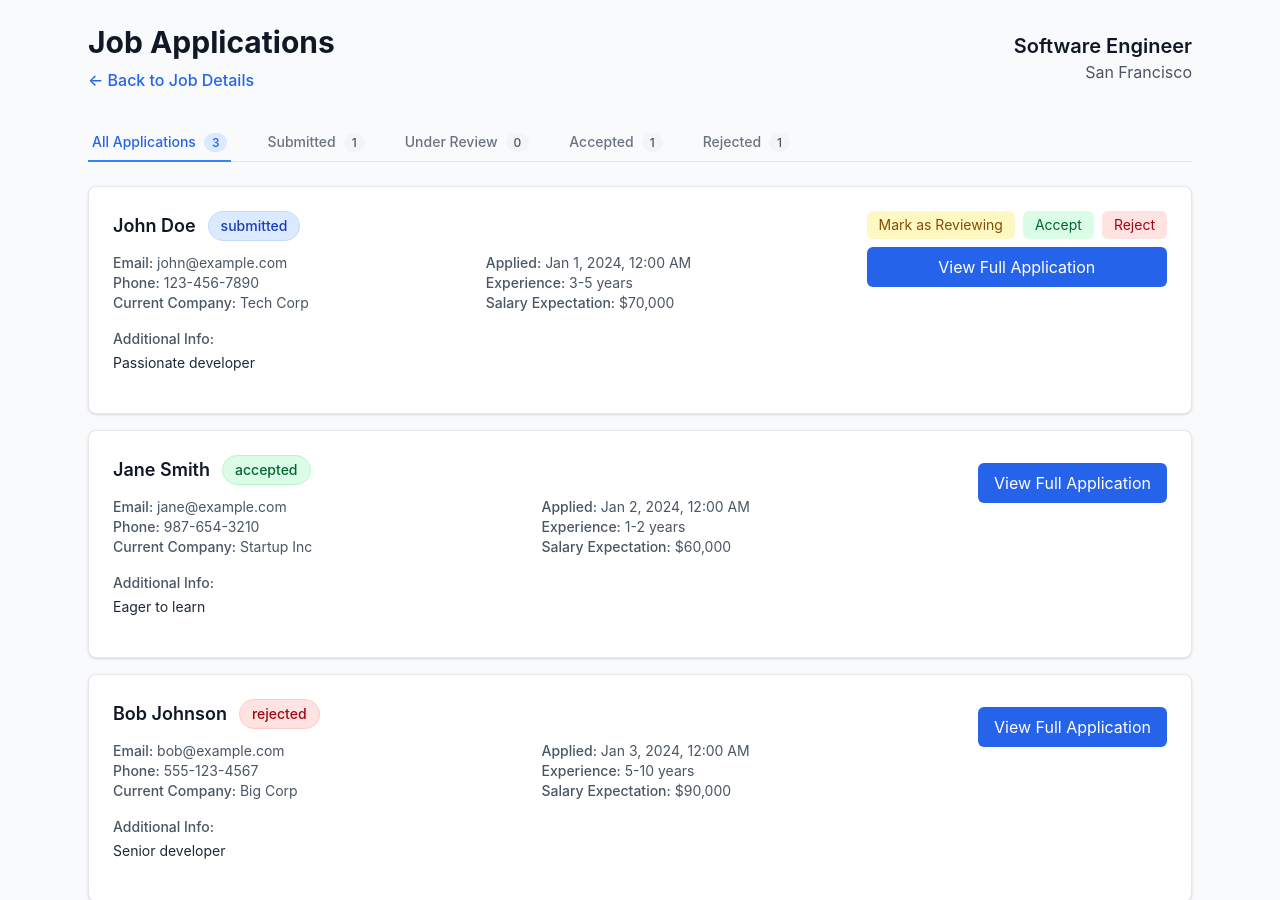
it: JobApplications › filters applications by accepted status
Expected: the button "All Applications3" is shown, [88,124,231,162]
Note: Click on Accepted tab
Click the button "Accepted1" at (616, 143), box [565,124,667,162]
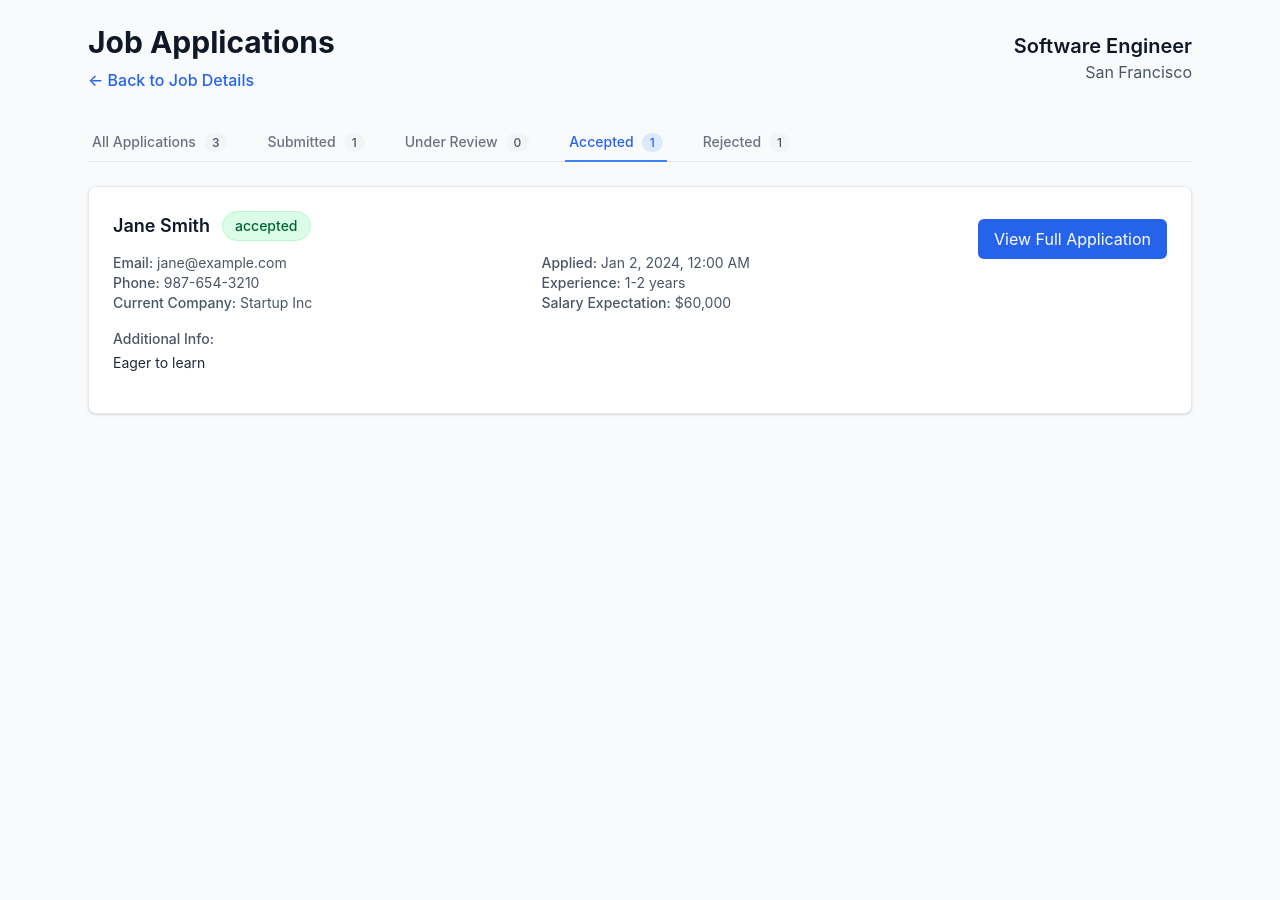
Expected: the heading "Jane Smith" is shown, [113,212,210,240]
Expected: the heading "John Doe" is gone
Expected: the heading "Bob Johnson" is gone
